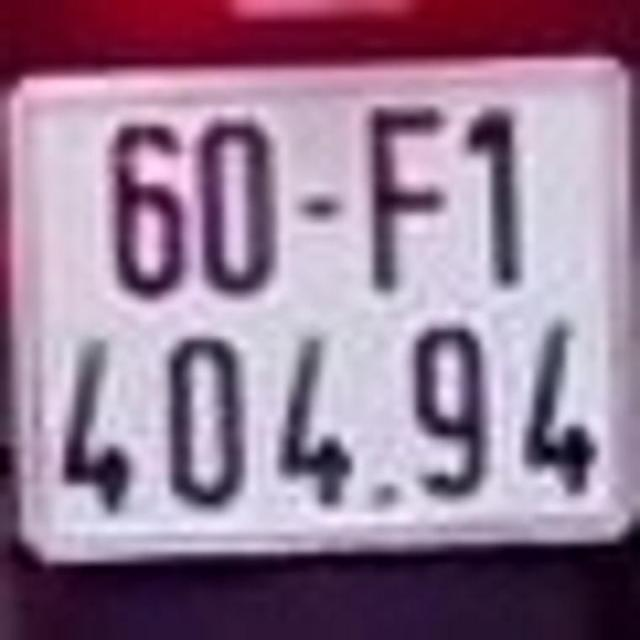0: (192, 96, 284, 301), (158, 328, 251, 513)
1: (46, 330, 145, 522), (462, 90, 542, 297)
4: (516, 300, 606, 508), (267, 322, 365, 512)
6: (98, 90, 188, 304)
9: (400, 309, 494, 504)
F: (356, 84, 453, 300)
